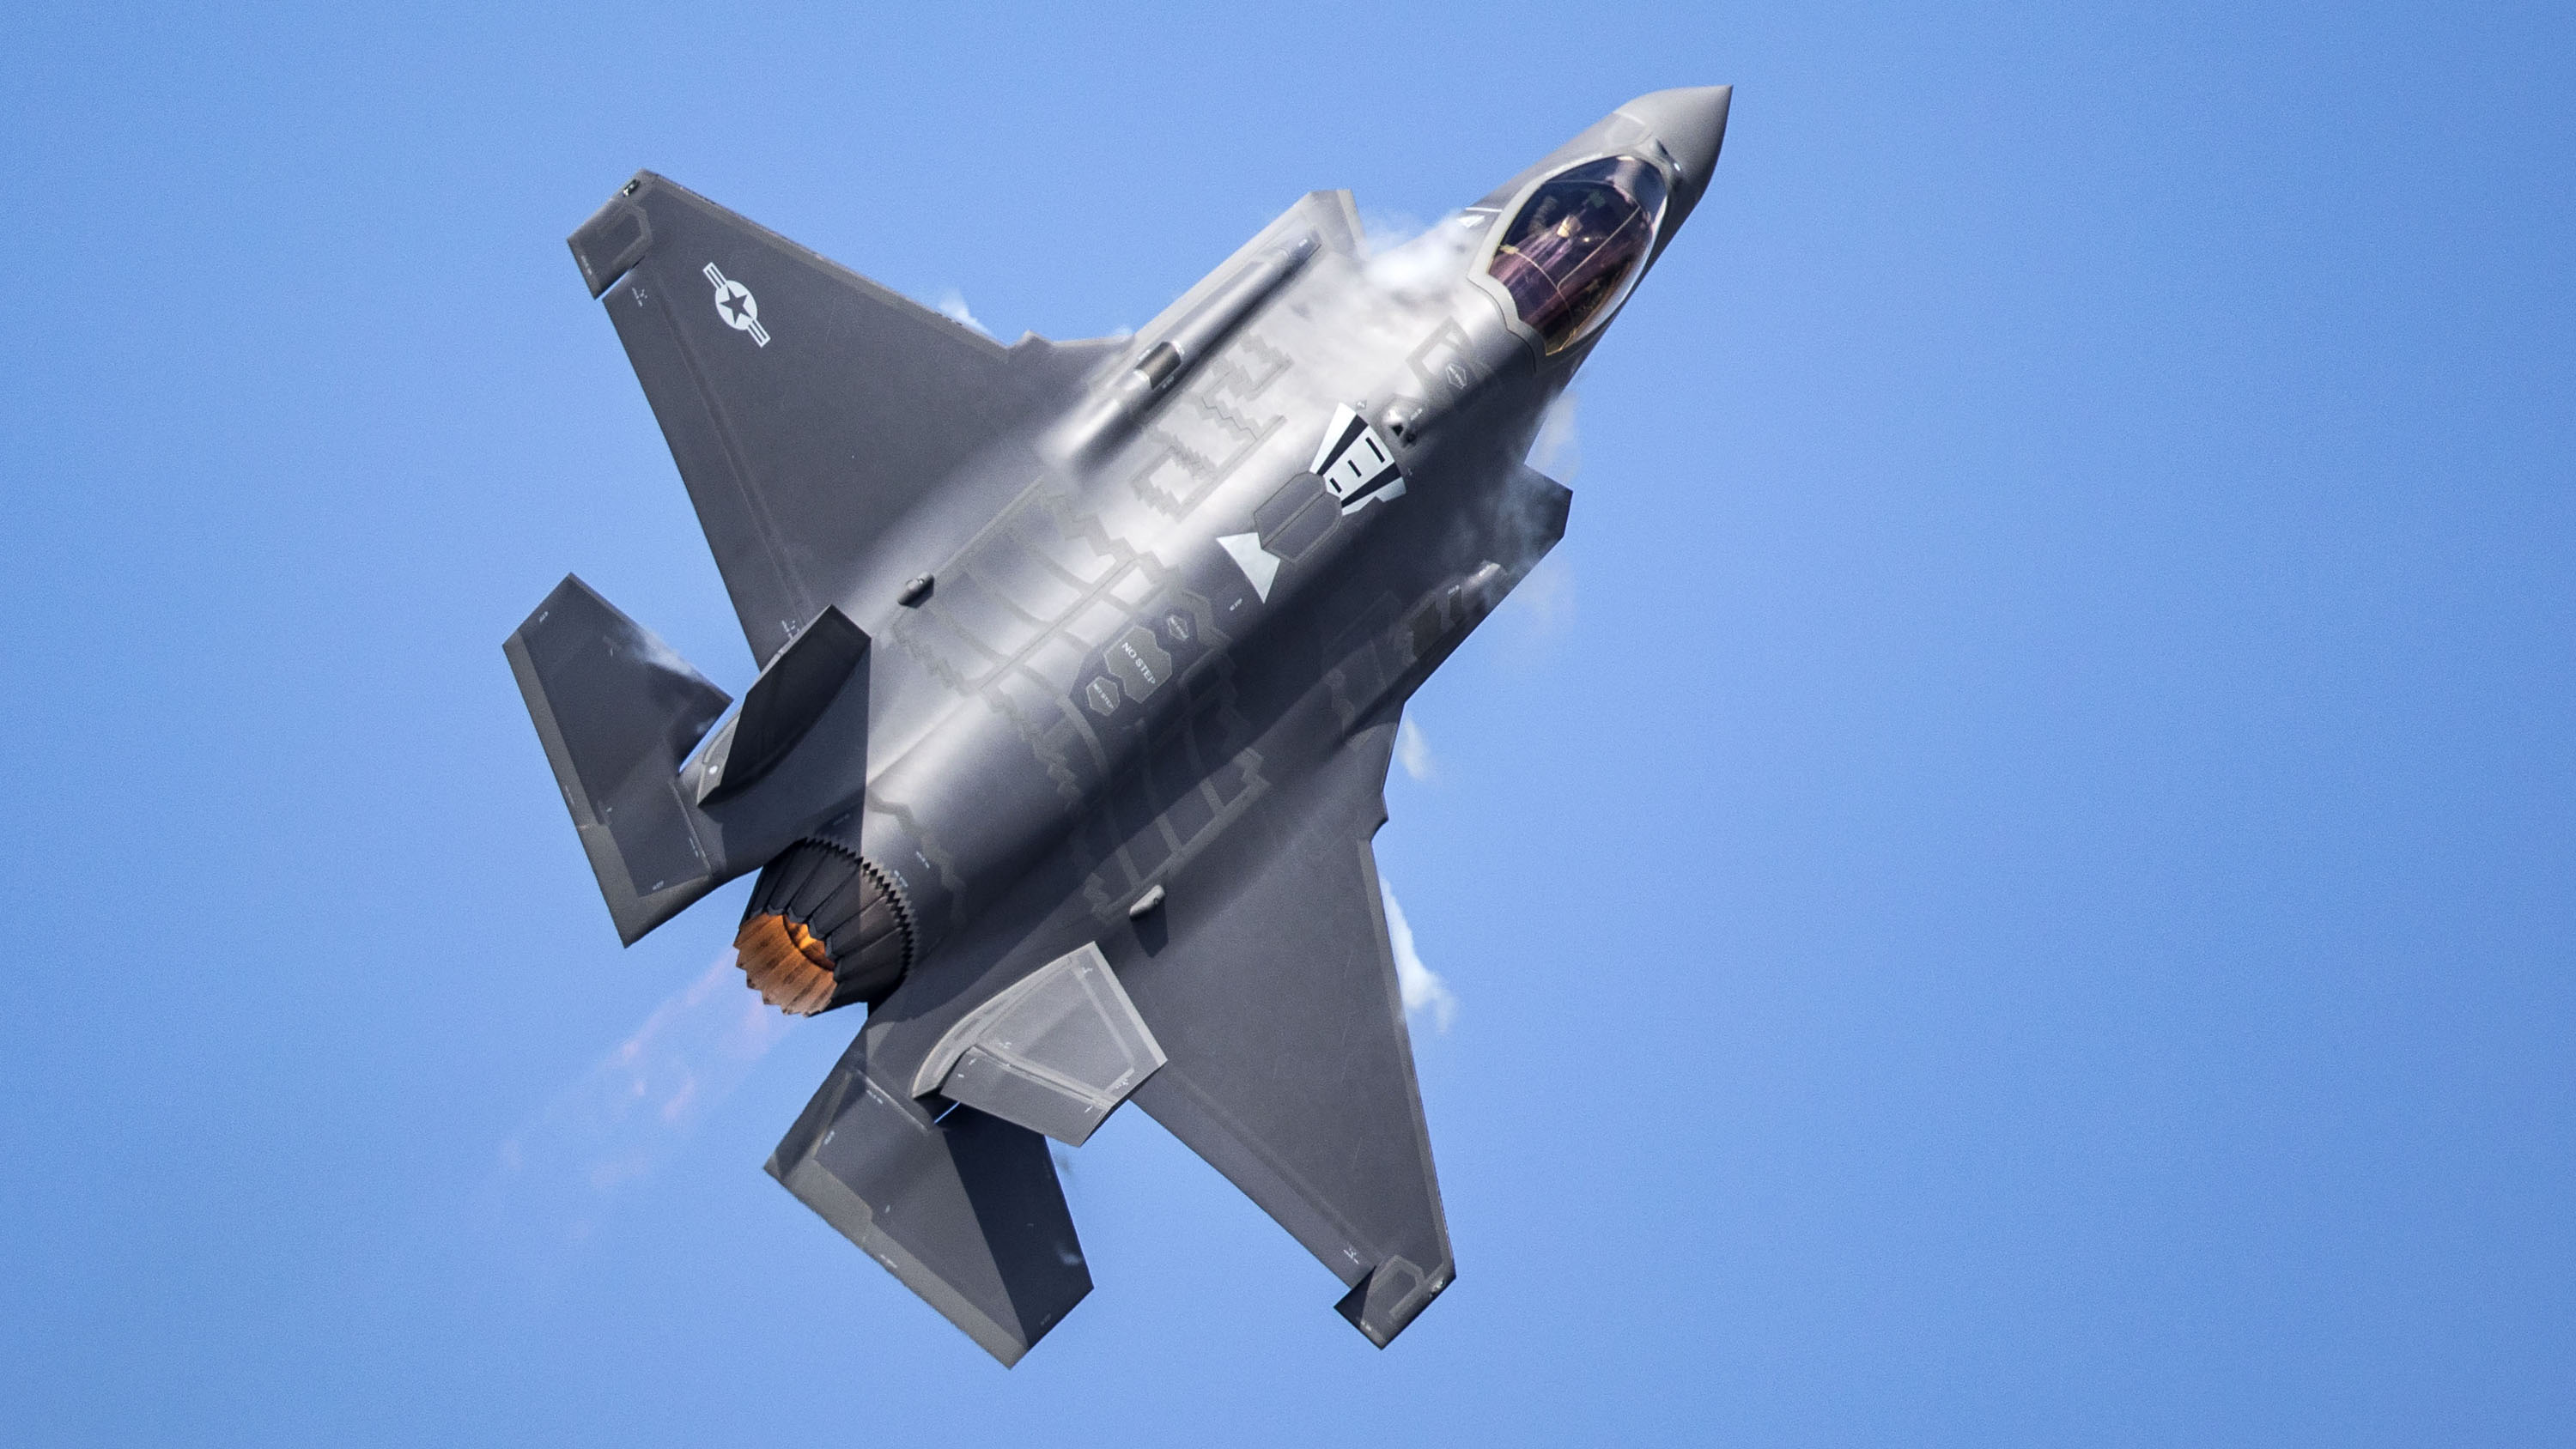F35: (490, 76, 1743, 1380)
